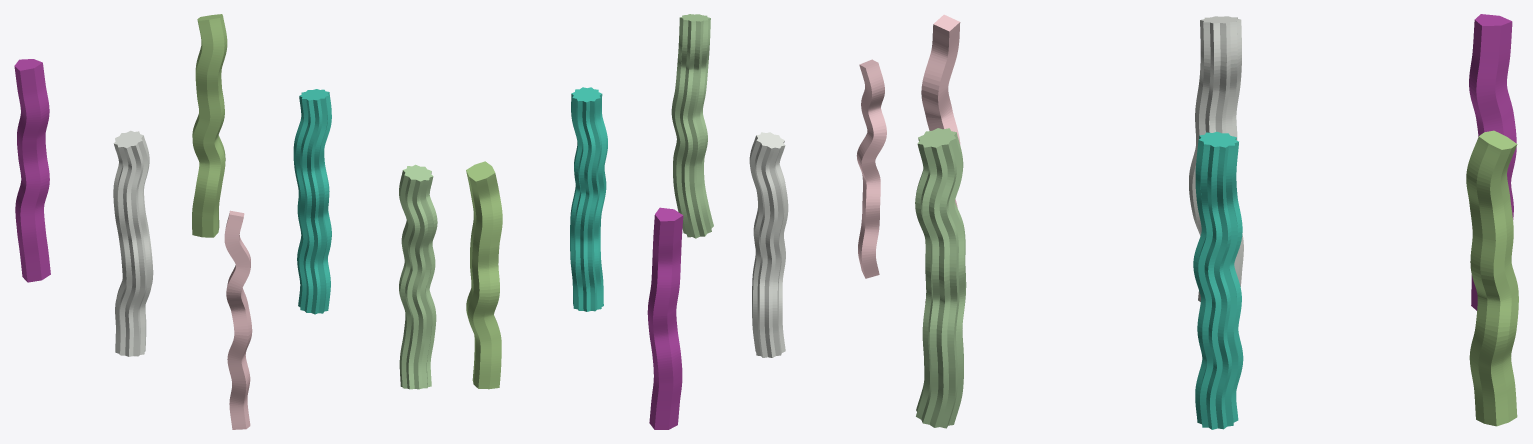
Rendered from Phong Normal Mapped_Opened Spline_2023-07-23-20-47-45.gltf.
3 renders of one model, left to right at view 1: azimuth 30°, elevation 25°; view 2: azimuth 150°, elevation 25°; view 3: azimuth 270°, elevation 25°, orthographic. The views are drawn at different scales.
Bounding box in the file's own units: 238 × 233 × 438.
